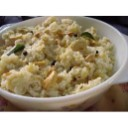venpongal: (1, 20, 111, 84)
